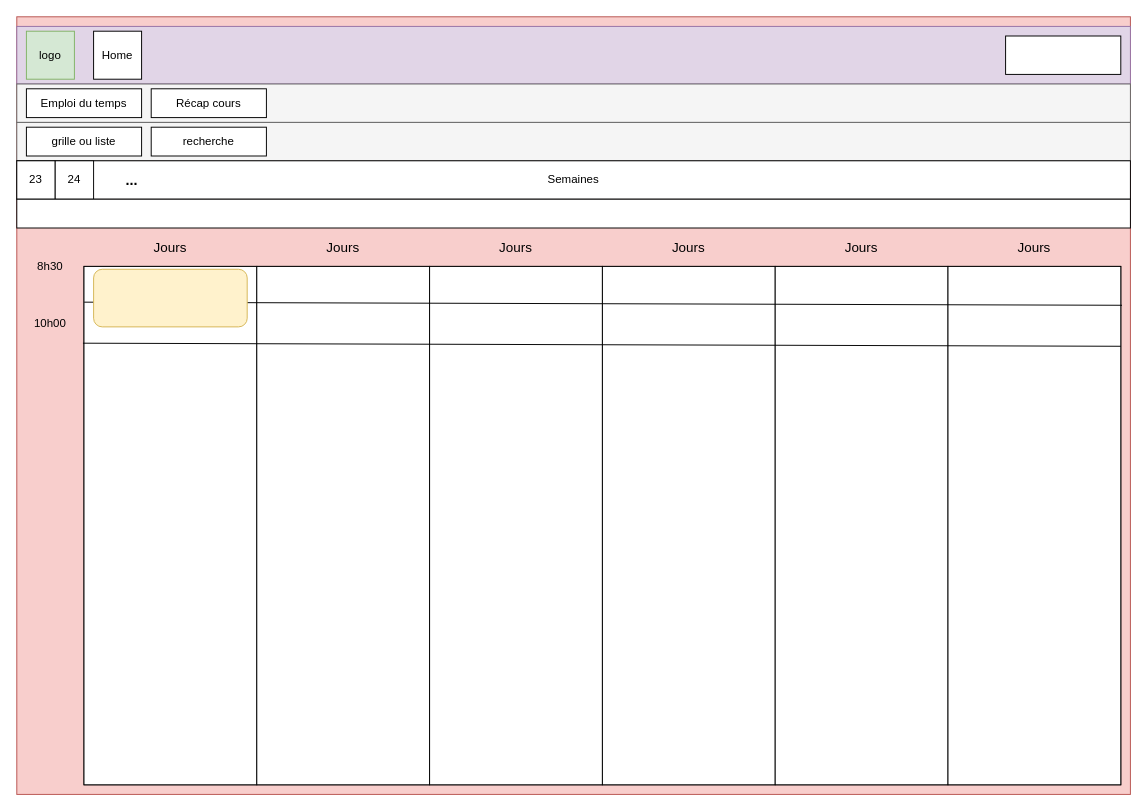
Image size: 1147x811. Some labels were removed from this diagram. Each missing label, with the centre of its shape:
"Cours détails du cours" belongs at (170,297).
"Déco" belongs at (1063,54).
"Mois" belongs at (573,213).
